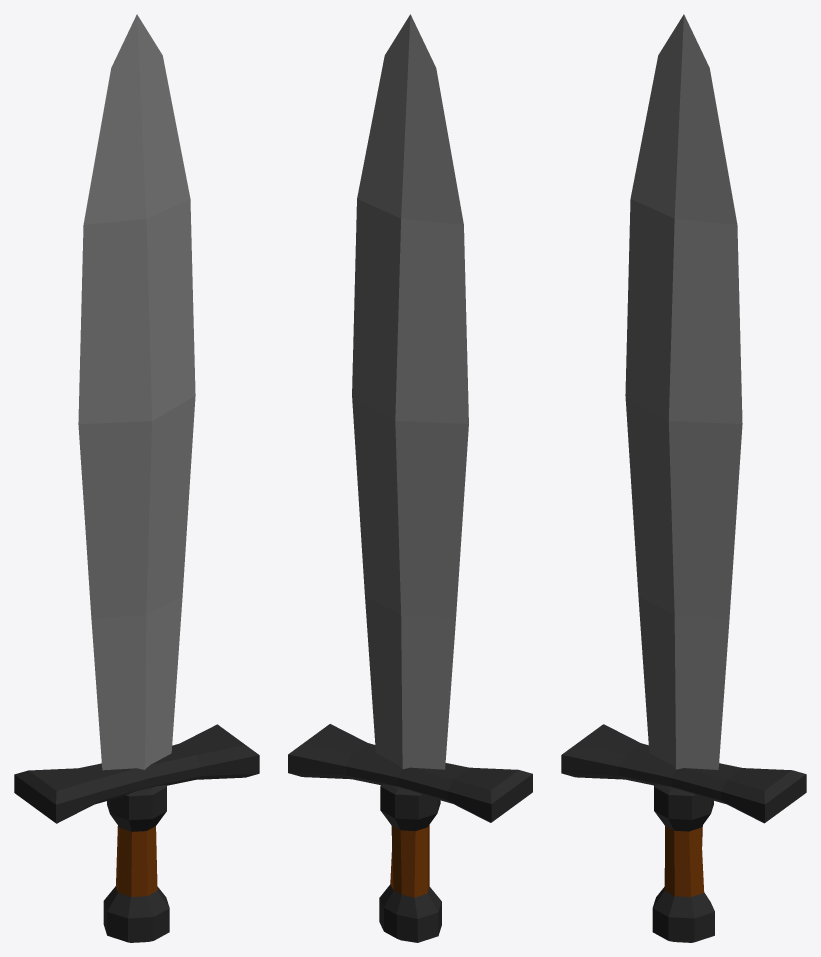
The model's file is sword.fbx.
The picture shows the model from 3 angles, left to right: view 1: azimuth 30°, elevation 25°; view 2: azimuth 150°, elevation 25°; view 3: azimuth 330°, elevation 25°; orthographic projection.
Parts seen in each view (by area): view 1: Sword; view 2: Sword; view 3: Sword.
Part boxes in pixels (x1=…): Sword: x1=14, y1=14, x2=259, y2=942; Sword: x1=288, y1=14, x2=532, y2=942; Sword: x1=561, y1=14, x2=806, y2=942.
Size of the model in its own units: 25.22 by 109 by 8.9.
Materials: 1 (1 with a texture image).
